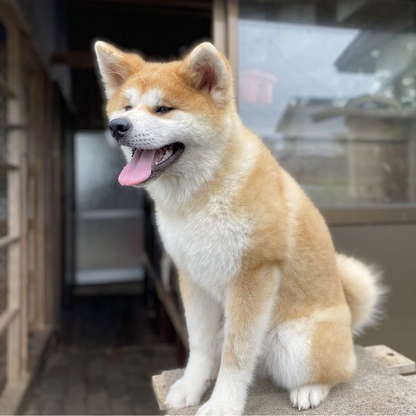akita: (83, 29, 393, 416)
